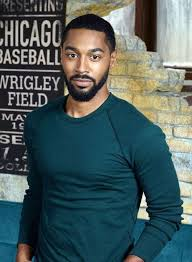b.y: (65, 74, 96, 102)
